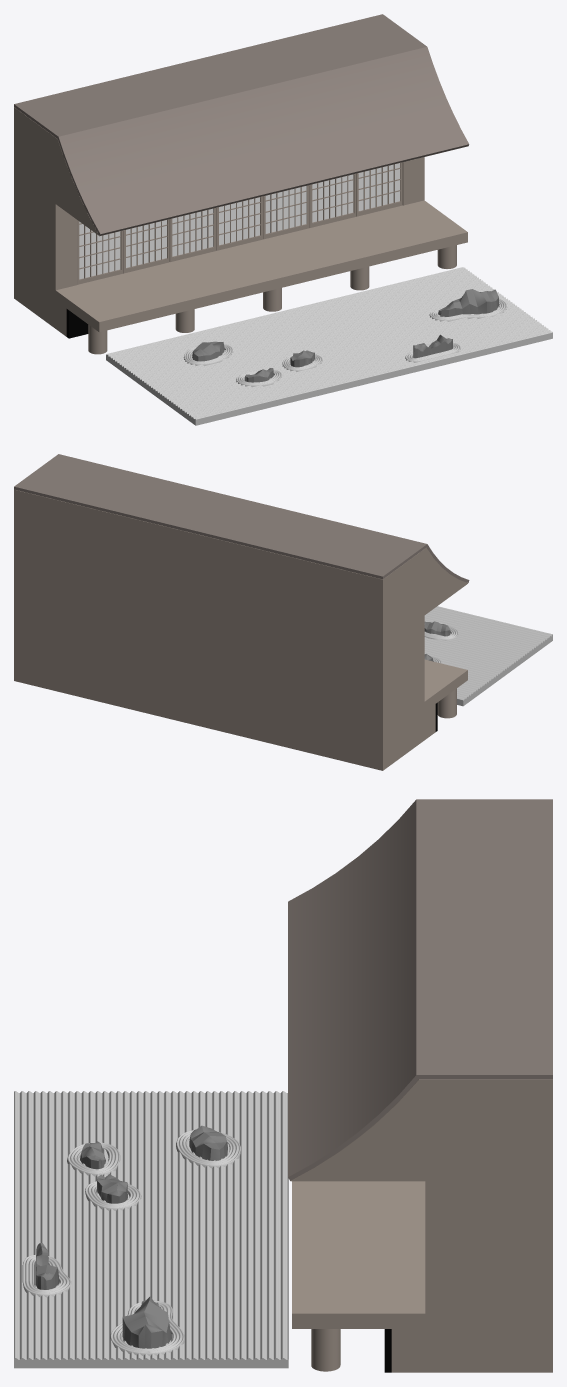
3 renders of one model, top to bottom at view 1: azimuth 30°, elevation 25°; view 2: azimuth 150°, elevation 25°; view 3: azimuth 270°, elevation 25°, orthographic. The views are drawn at different scales.
Parts seen in each view (by area): view 1: 017_st_Sekitei; view 2: 017_st_Sekitei; view 3: 017_st_Sekitei.
Boxes of the visible parts, x1,y1,x2,y2 form: 017_st_Sekitei: [14, 14, 552, 425]; 017_st_Sekitei: [14, 454, 552, 770]; 017_st_Sekitei: [14, 799, 552, 1372].
Bounding box in the file's own units: 0.19 × 0.0957 × 0.157.
